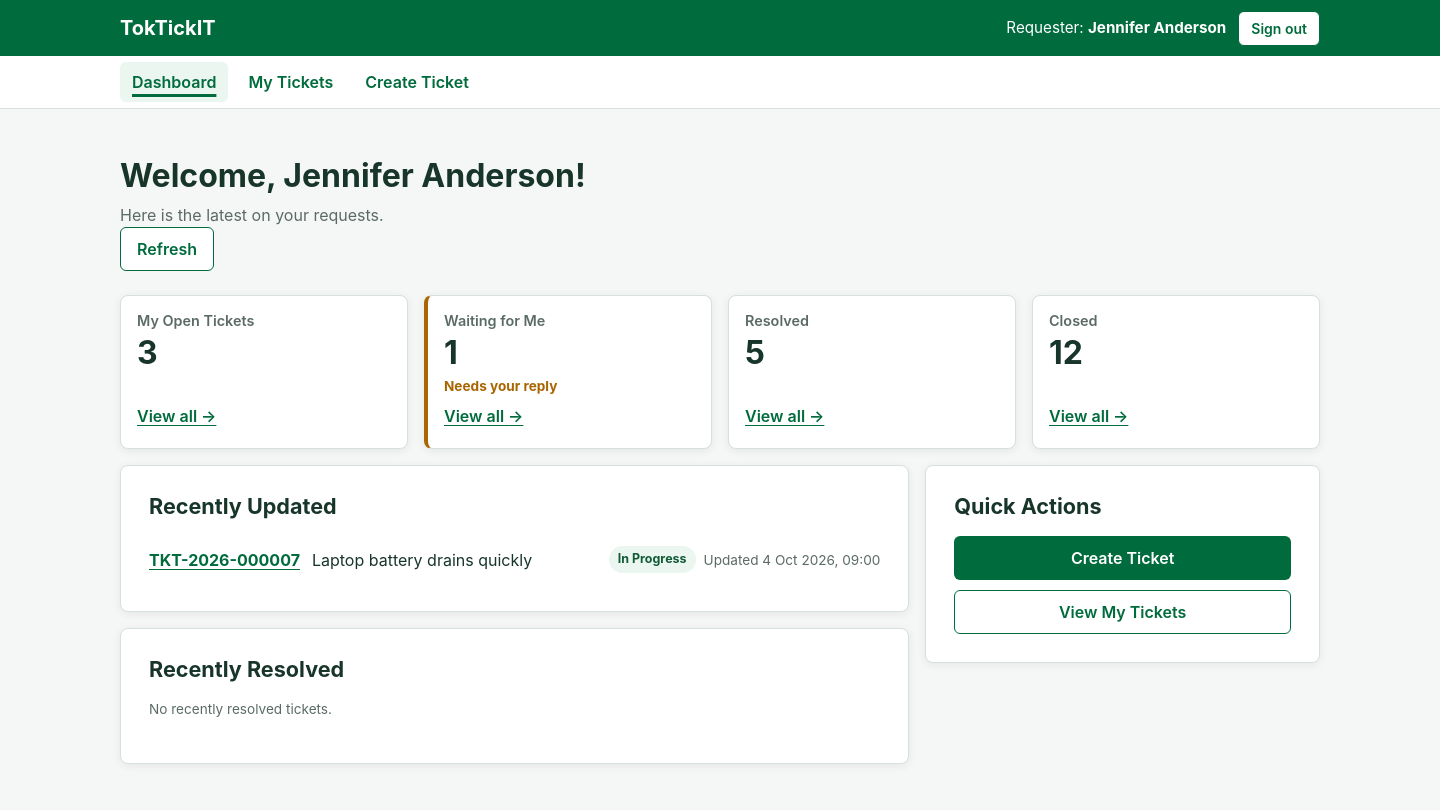
Test: Lab 4 Requester Dashboard › FR-20/FR-21: a signed-in Requester lands on the Dashboard and drills into filtered My Tickets
The width and height of the screenshot is (1440, 810).
Click the button with aria-label "View all: Waiting for Me". click: (484, 416)
box: [444,400,523,432]
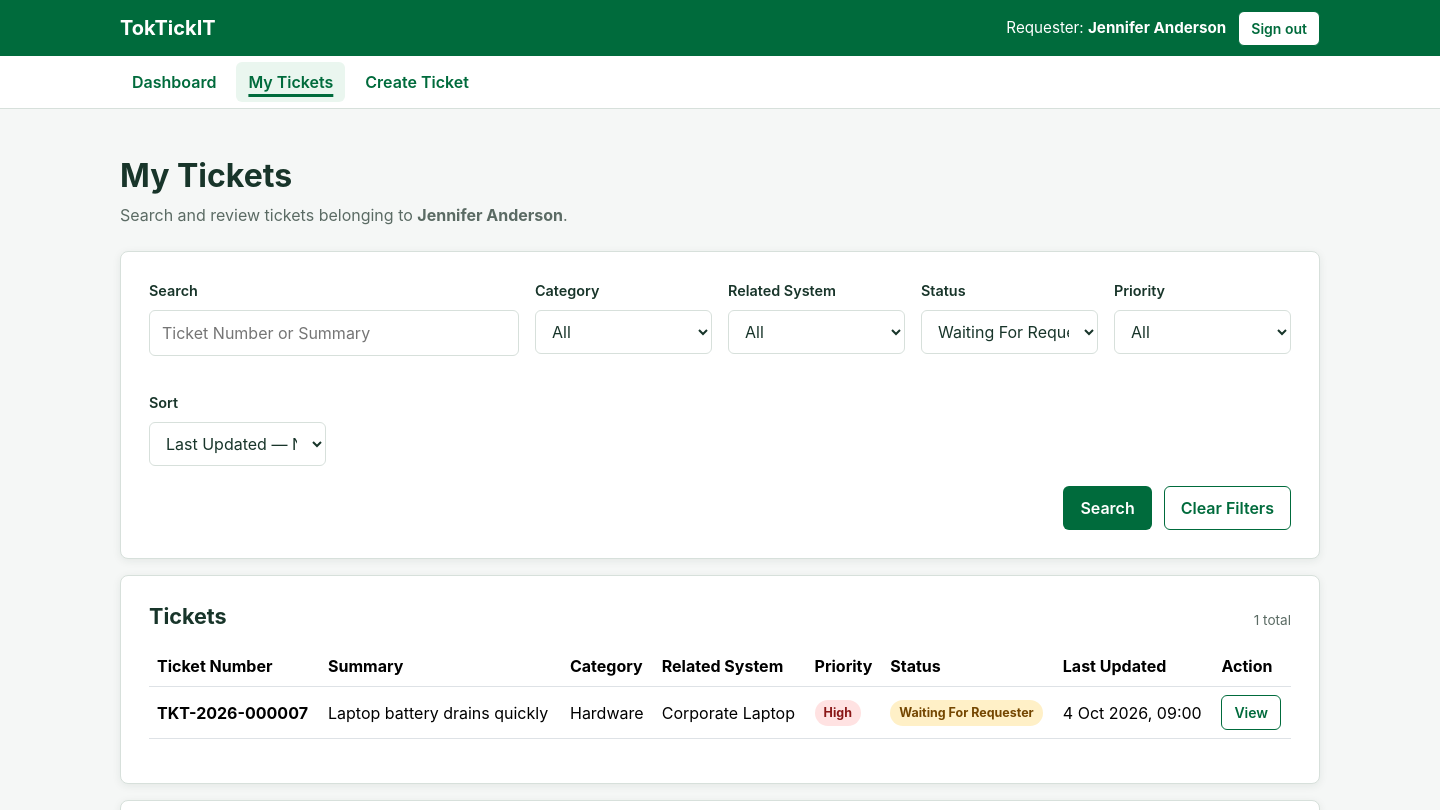
Expected: the heading "My Tickets" is shown, [120,156,292,195]
Expected: the dropdown labelled "Status" shows "Waiting For Requester", [921,310,1098,354]
